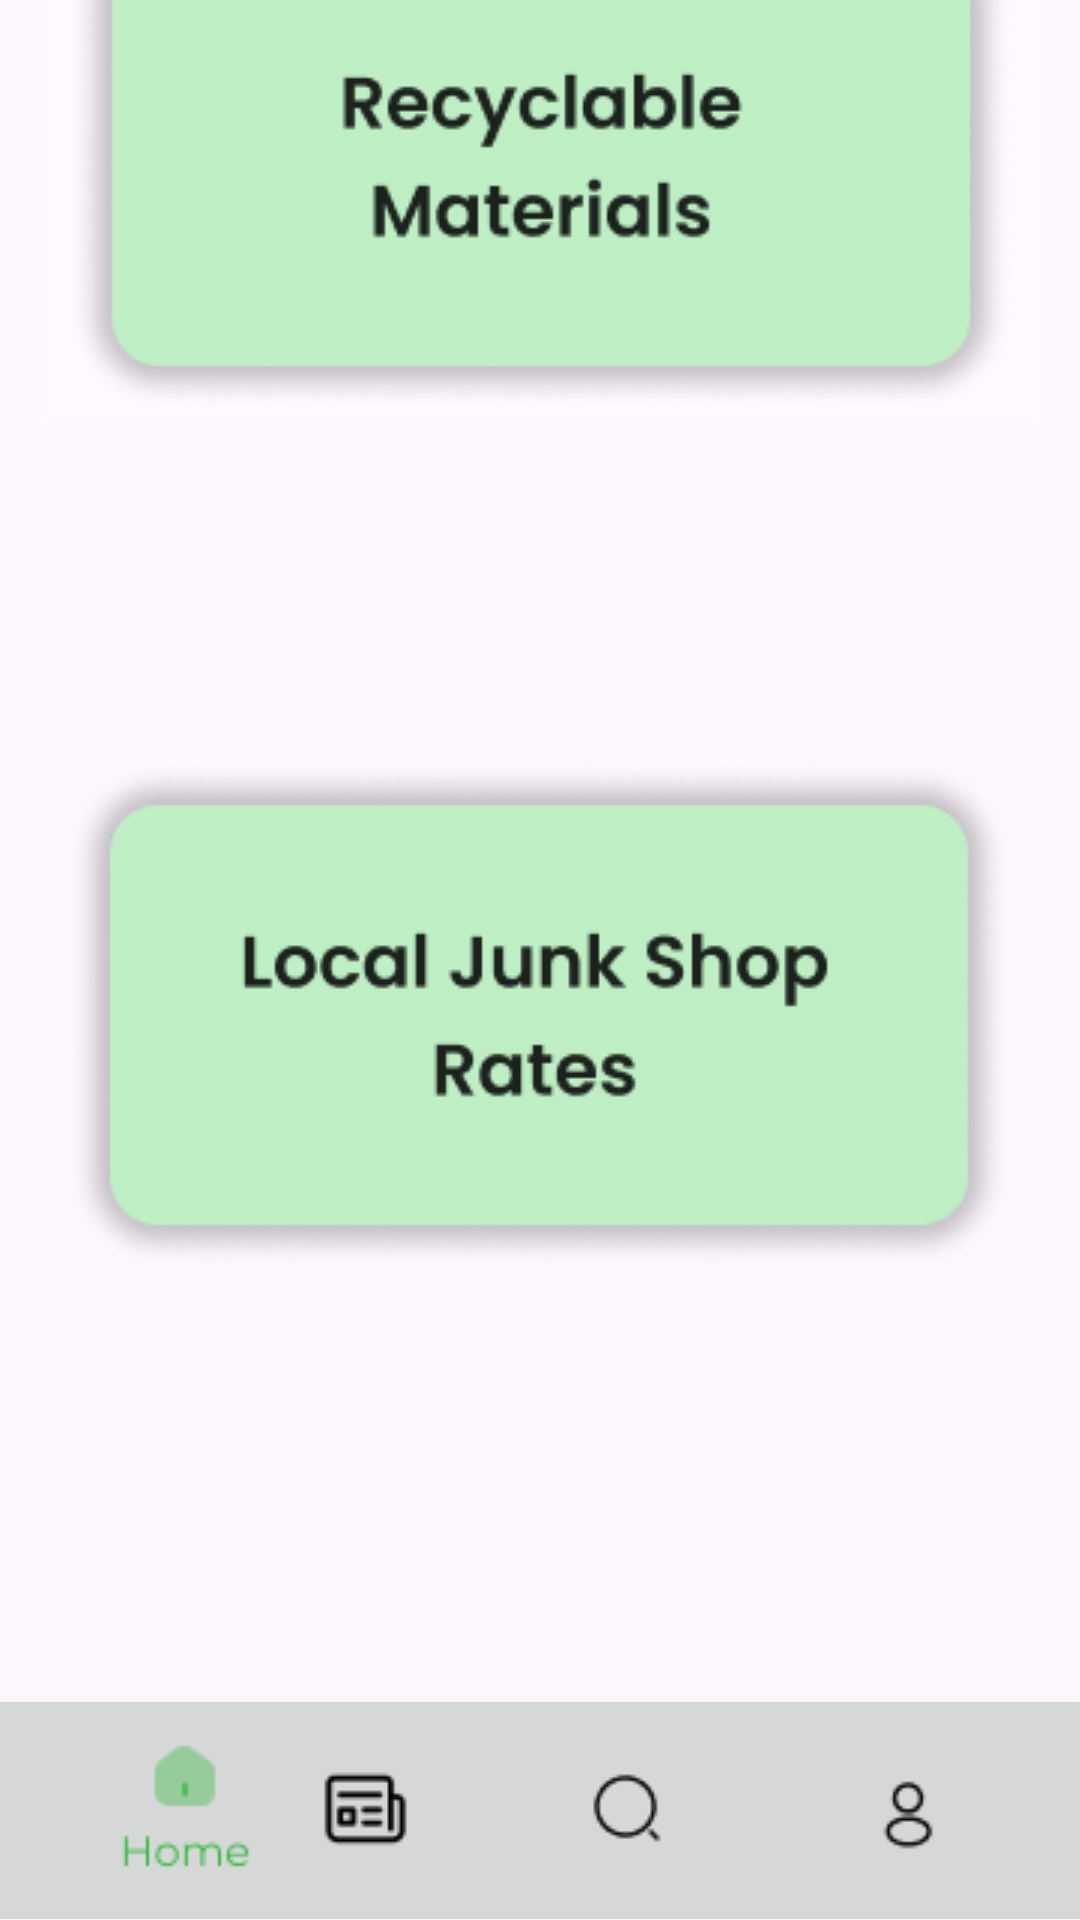

Point at icon controls on the screen. Image size 1080w x 1920h, points as point (x, y).
bulletin: point (365, 1809)
profile: point (908, 1815)
search: point (627, 1808)
